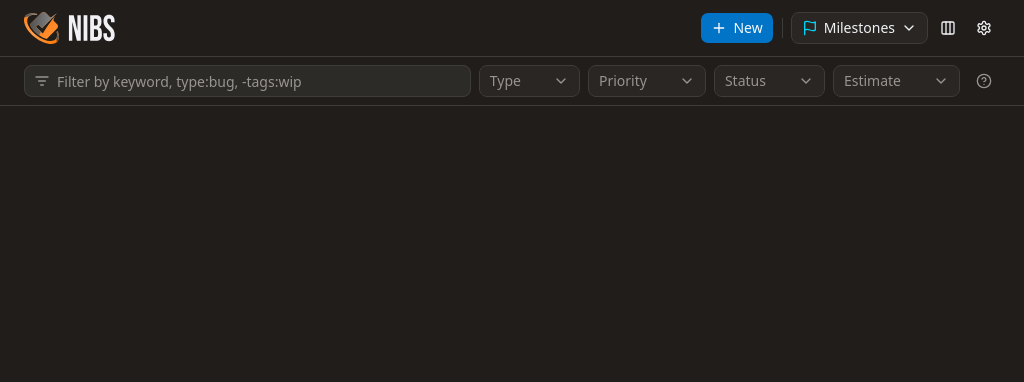
Test: Toolbar › Title checkbox is always disabled in Columns dropdown
The image size is (1024, 382).
Click the button named "Columns".
click(948, 28)  # box 932,12 -> 964,44
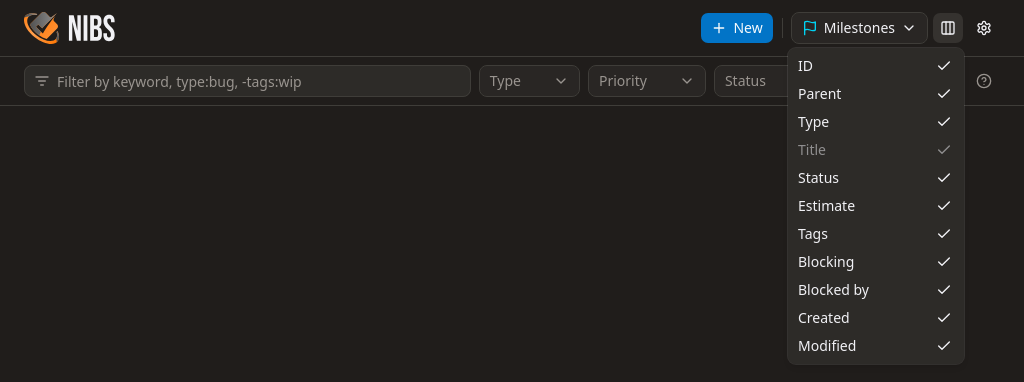
Now the menu item "Title" is shown, box 792,136 -> 960,164
